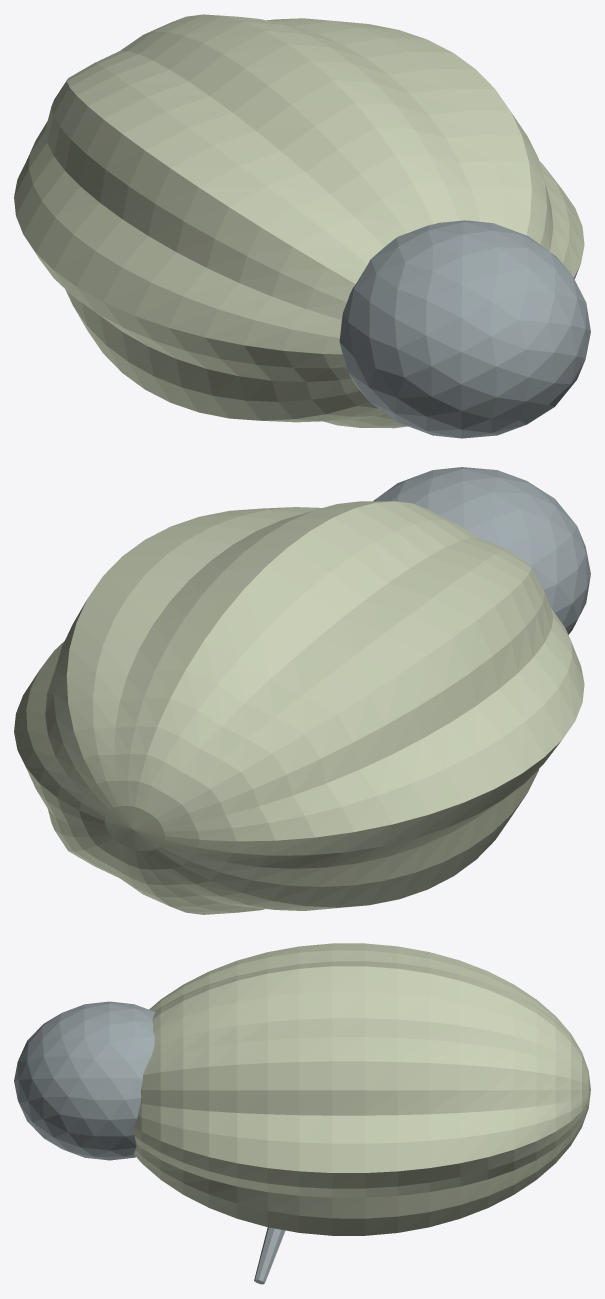
The model's file is enemy_insect.glb.
The picture shows the model from 3 angles, top to bottom: view 1: azimuth 30°, elevation 25°; view 2: azimuth 150°, elevation 25°; view 3: azimuth 270°, elevation 25°; orthographic projection. The views are drawn at different scales.
Visible parts, largest first — view 1: body, head; view 2: body, head; view 3: body, head, leg.
Part boxes in pixels (x1,y1,x2,y2): body: (14,14,584,428); head: (339,220,590,438); body: (14,501,584,914); head: (373,467,590,634); body: (134,943,590,1235); head: (14,1001,155,1160); leg: (254,1227,285,1284).
Size of the model in its own units: 1.24 by 0.91 by 1.81.
